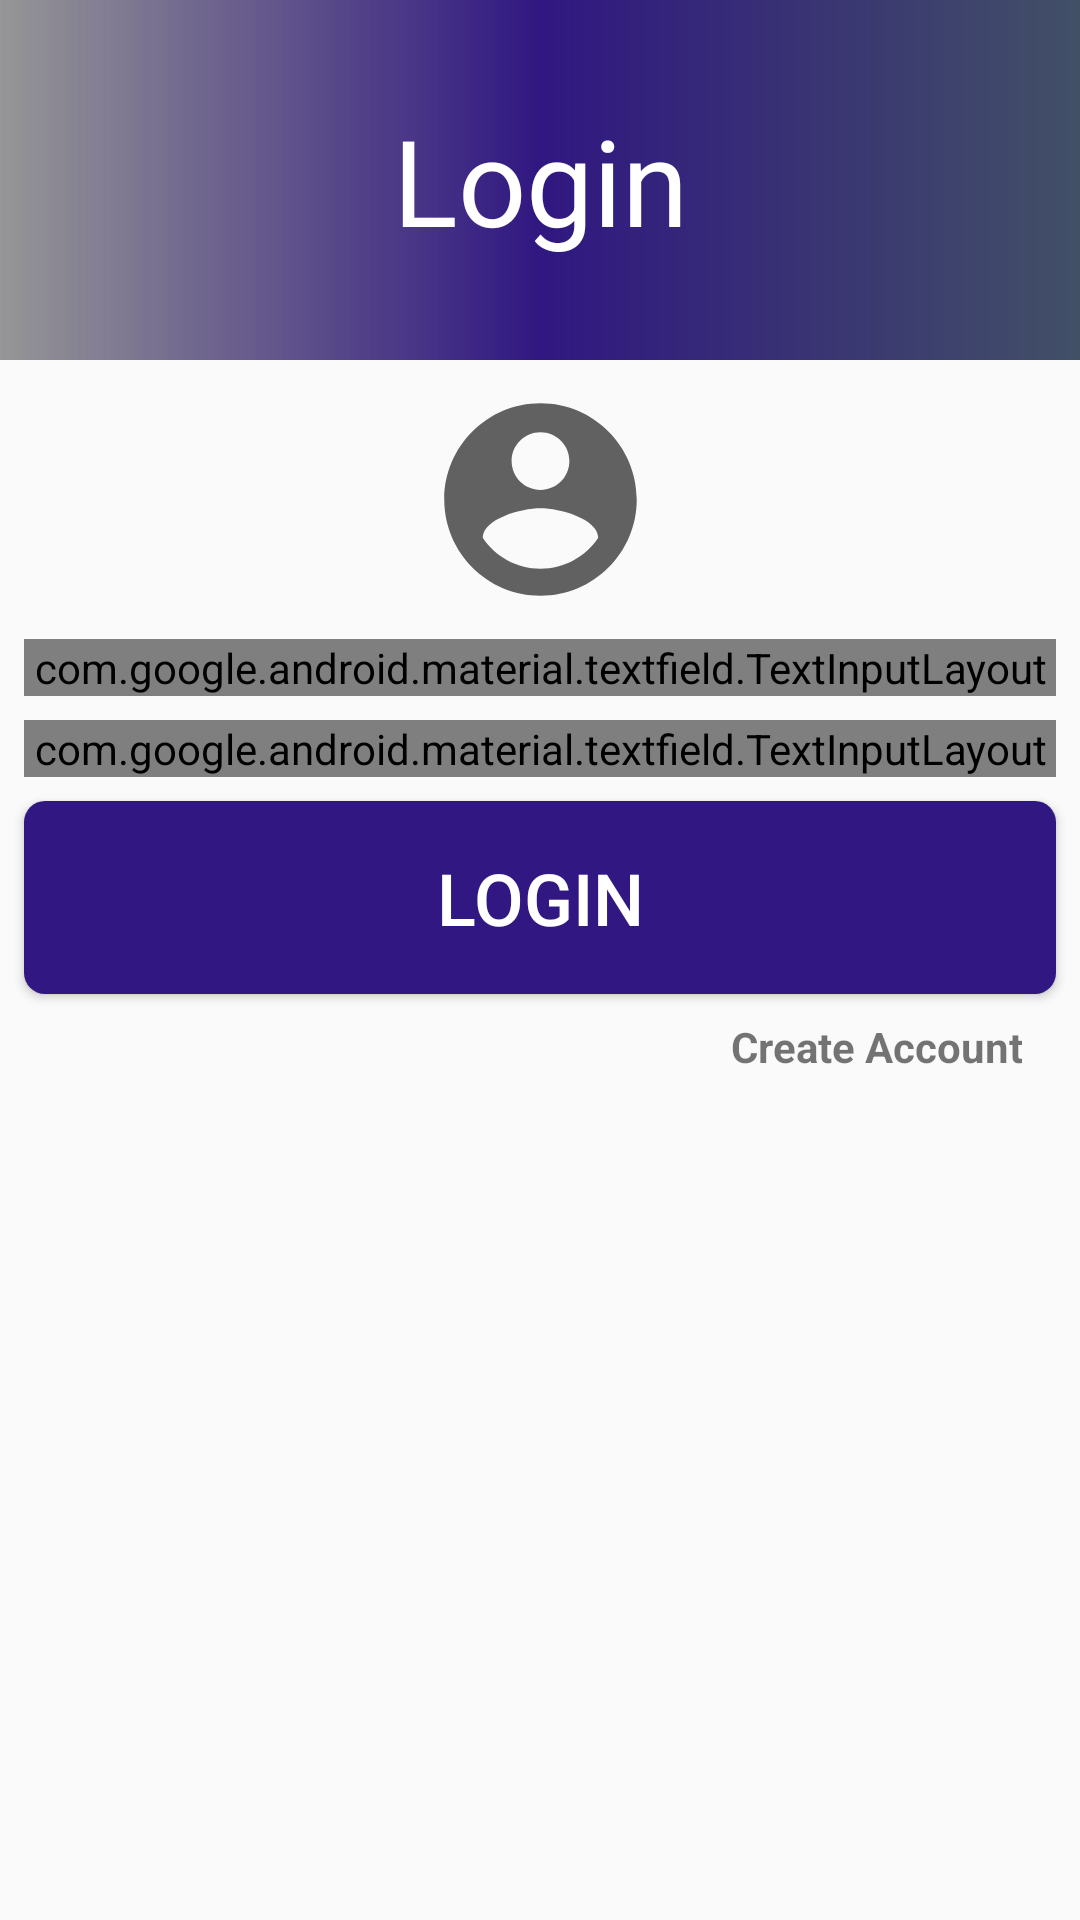

Where icons sit on this 1080px×1920px app screen, as (x1,y1,x2,y2):
account circle: (444,403,637,596)
